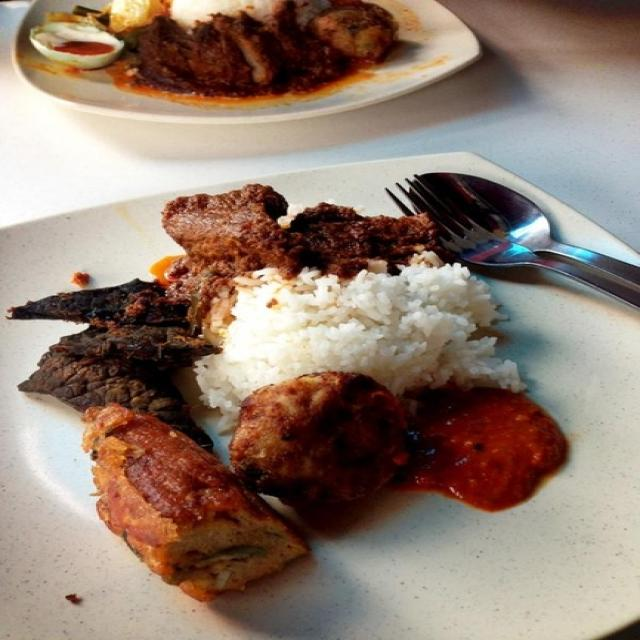米饭主食: (7, 4, 630, 629)
